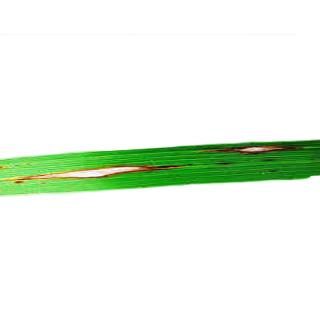Blast: (16, 164, 176, 184), (205, 141, 309, 157)
